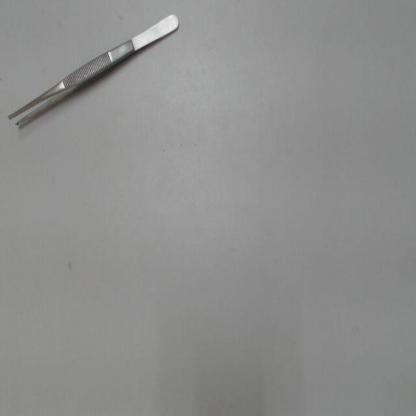Gillies Toothed Dissector: (2, 9, 189, 137)
